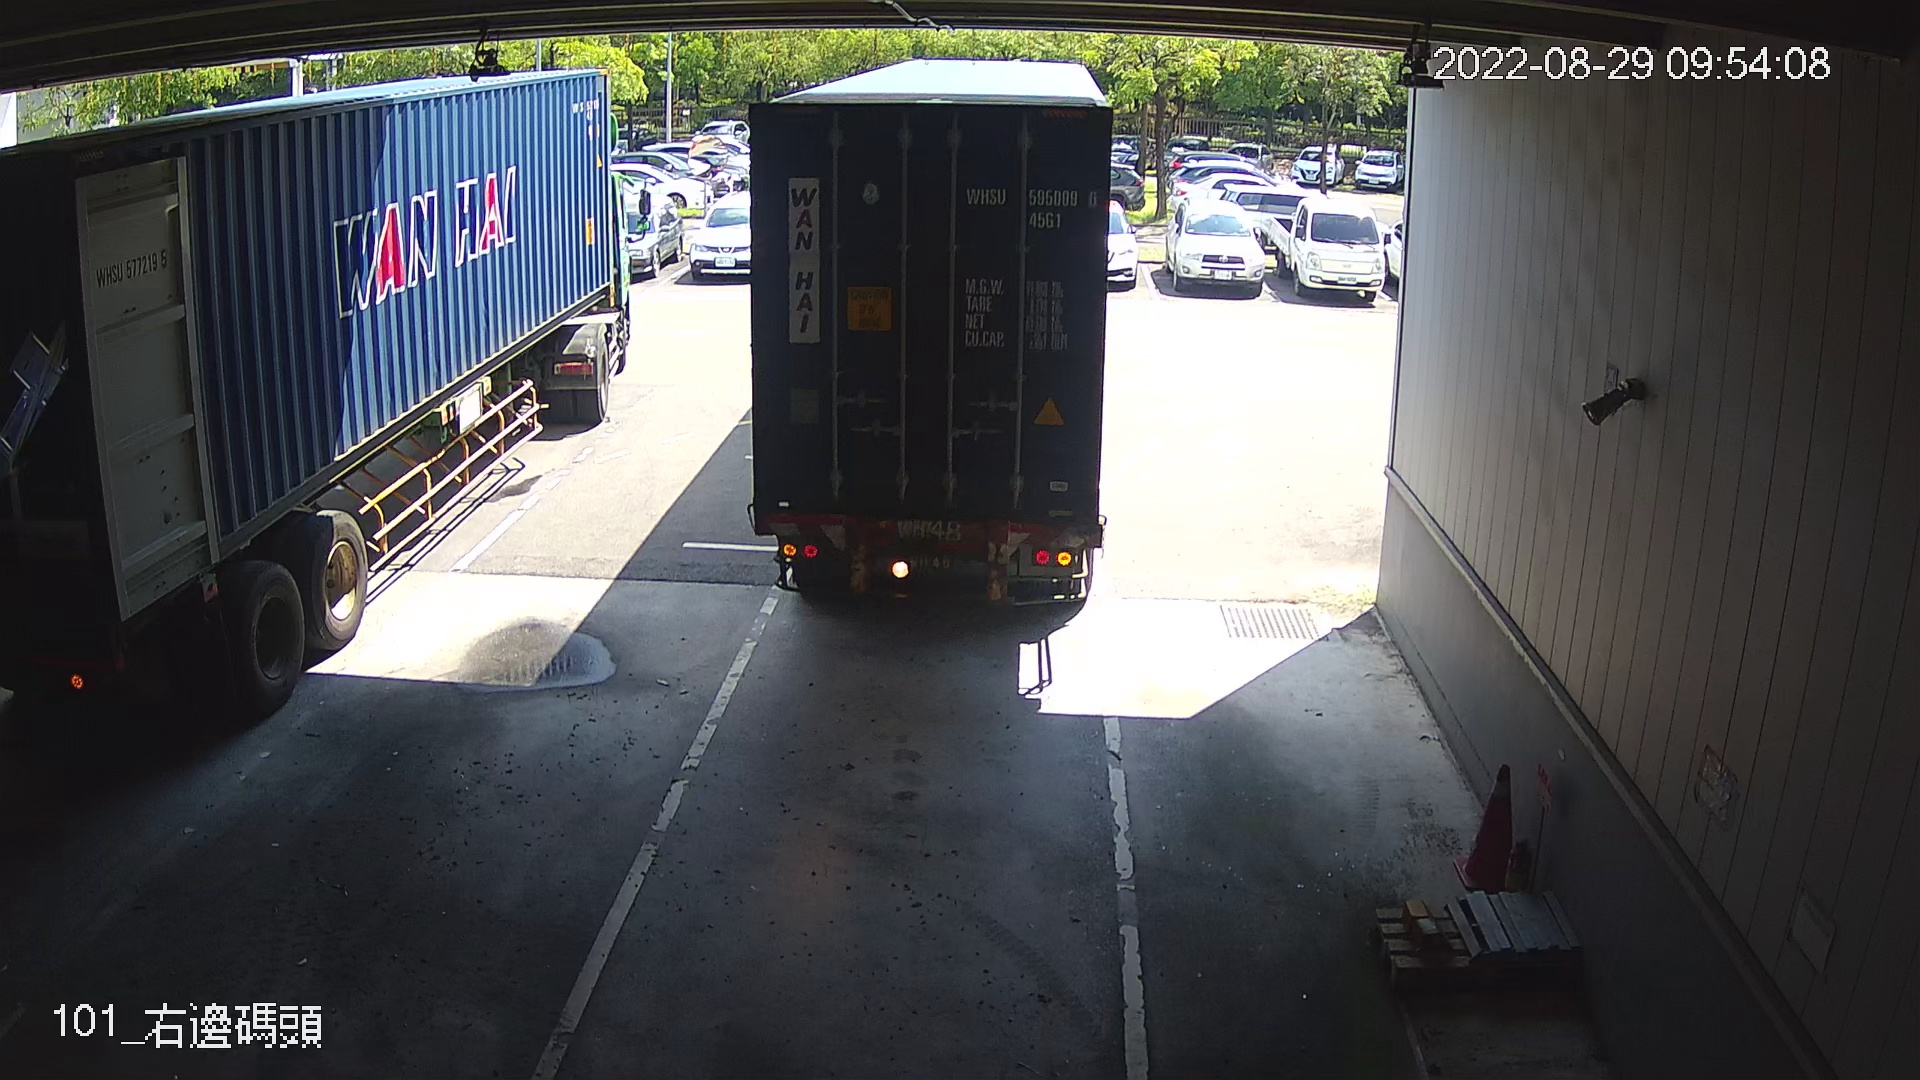container: (959, 179, 1106, 237)
